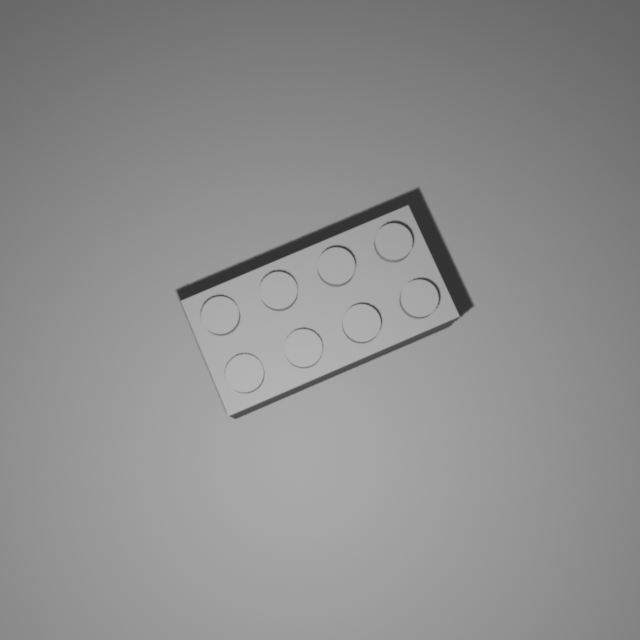lego_2x4: (179, 202, 462, 419)
